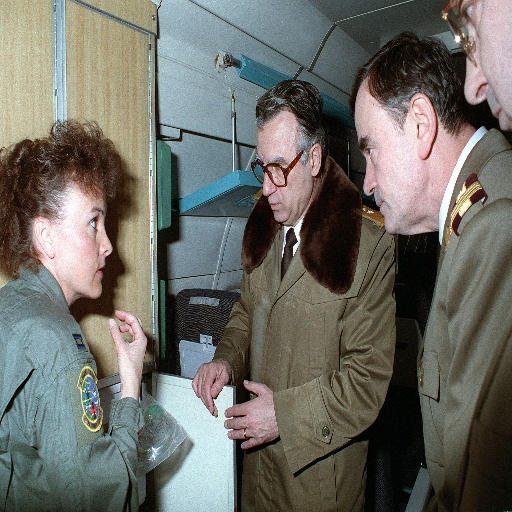hand: (222, 378, 280, 449), (100, 312, 141, 388), (191, 357, 233, 418)
